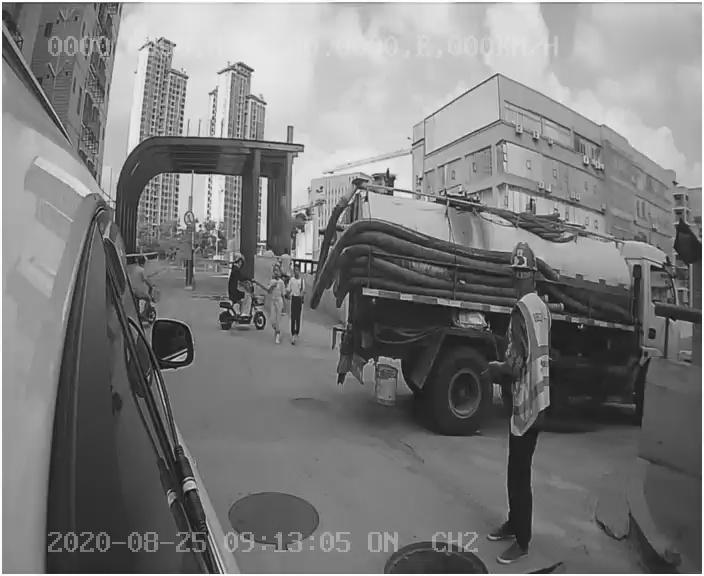person: (487, 242, 555, 566)
